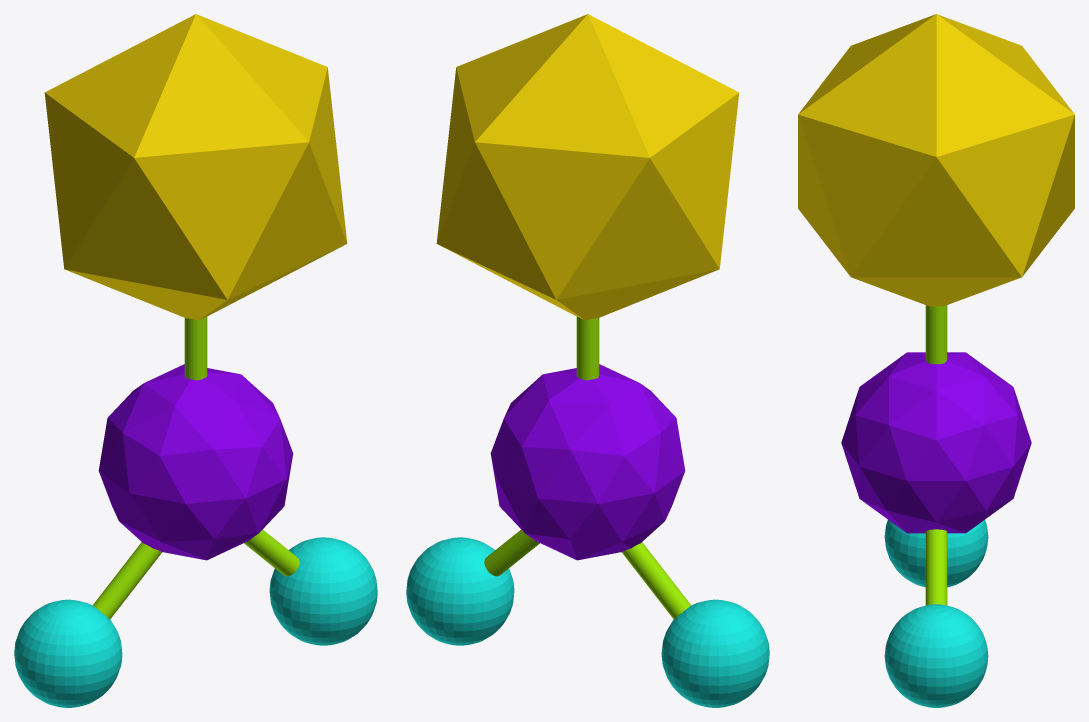
Rendered from molecule_hex.glb.
3 views of the same model, side by side, from view 1: azimuth 30°, elevation 25°; view 2: azimuth 150°, elevation 25°; view 3: azimuth 270°, elevation 25° (orthographic). The views are drawn at different scales.
Parts seen in each view (by area): view 1: Icosphere.001, Icosphere, Sphere.001, Sphere, Cylinder, Cylinder.002, Cylinder.001; view 2: Icosphere.001, Icosphere, Sphere.001, Sphere, Cylinder, Cylinder.002, Cylinder.001; view 3: Icosphere.001, Icosphere, Sphere, Sphere.001, Cylinder.001, Cylinder.002.
Part boxes in pixels (x1,y1,x2,y2): Icosphere.001: (44,14,347,320); Icosphere: (98,364,293,560); Sphere.001: (14,599,122,707); Sphere: (269,537,377,645); Cylinder: (92,542,162,619); Cylinder.002: (184,316,207,380); Cylinder.001: (244,529,299,576); Icosphere.001: (436,14,739,320); Icosphere: (490,364,685,560); Sphere.001: (661,599,769,707); Sphere: (406,537,514,645); Cylinder: (621,542,691,619); Cylinder.002: (576,316,599,380); Cylinder.001: (484,529,539,576); Icosphere.001: (798,14,1074,306); Icosphere: (841,352,1031,533); Sphere: (884,604,988,707); Sphere.001: (884,520,988,587); Cylinder.001: (925,529,947,605); Cylinder.002: (925,305,947,364).
Bounding box in the file's own units: 7.11 × 12.8 × 5.1.
